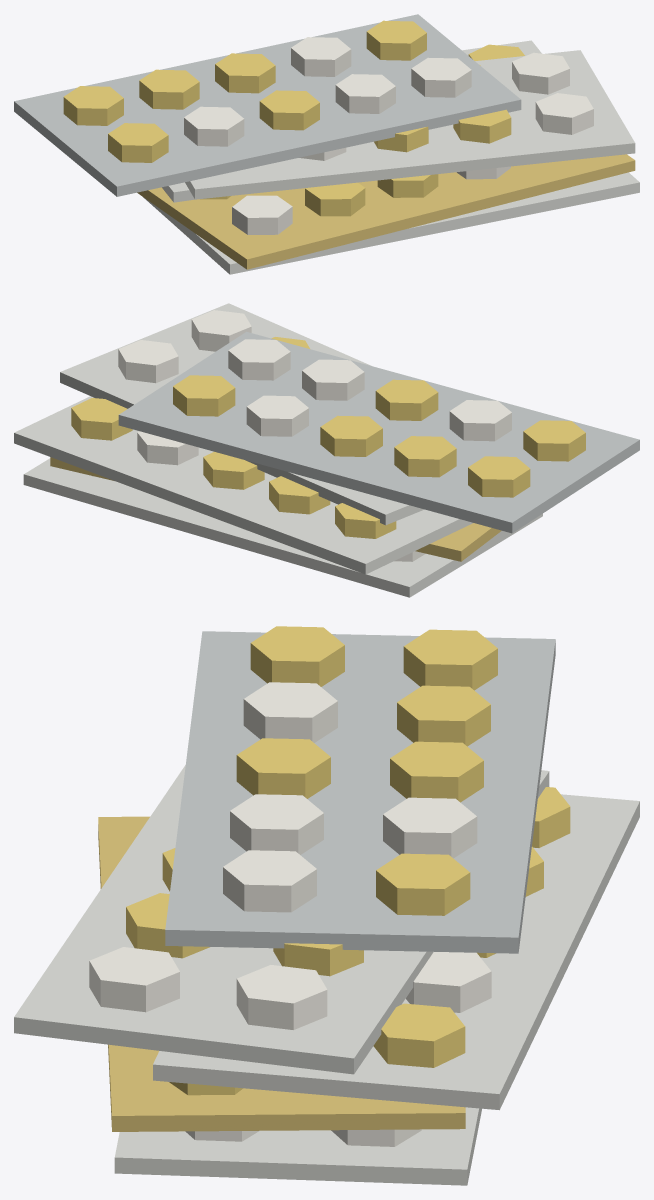
File: blister_packs.fbx
3 renders of one model, top to bottom at view 1: azimuth 30°, elevation 25°; view 2: azimuth 150°, elevation 25°; view 3: azimuth 270°, elevation 25°, orthographic. The views are drawn at different scales.
Visible parts, largest first — view 1: blister_packs; view 2: blister_packs; view 3: blister_packs.
Boxes of the visible parts, <box> form: blister_packs: <box>14,14,639,274</box>; blister_packs: <box>14,303,639,597</box>; blister_packs: <box>14,626,639,1185</box>.
Bounding box in the file's own units: 15.64 × 3.6 × 10.62.
